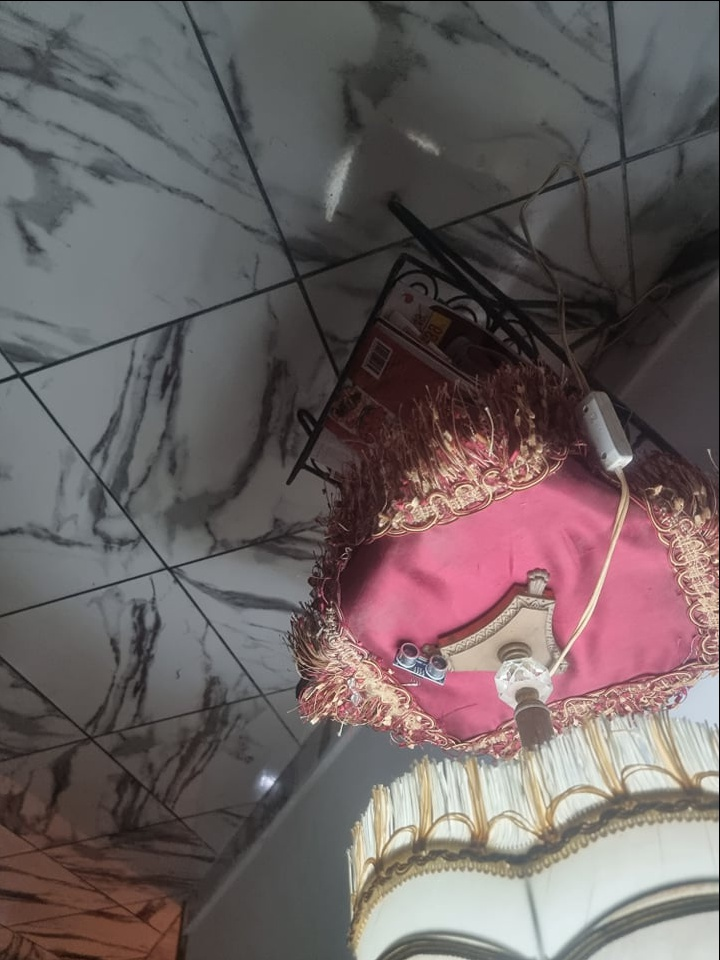SENSOR: (397, 642, 452, 683)
